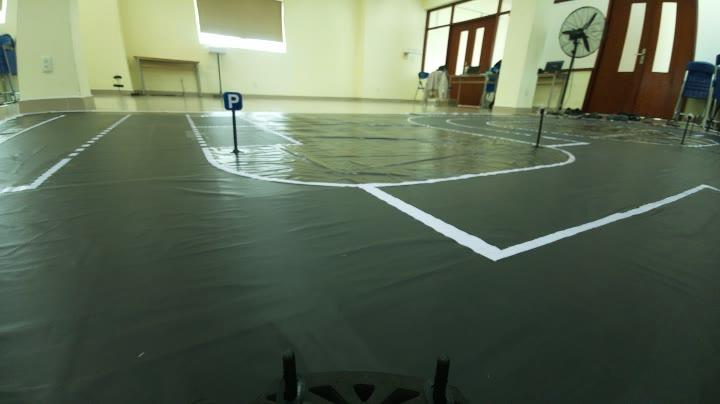parking: (222, 86, 245, 114)
